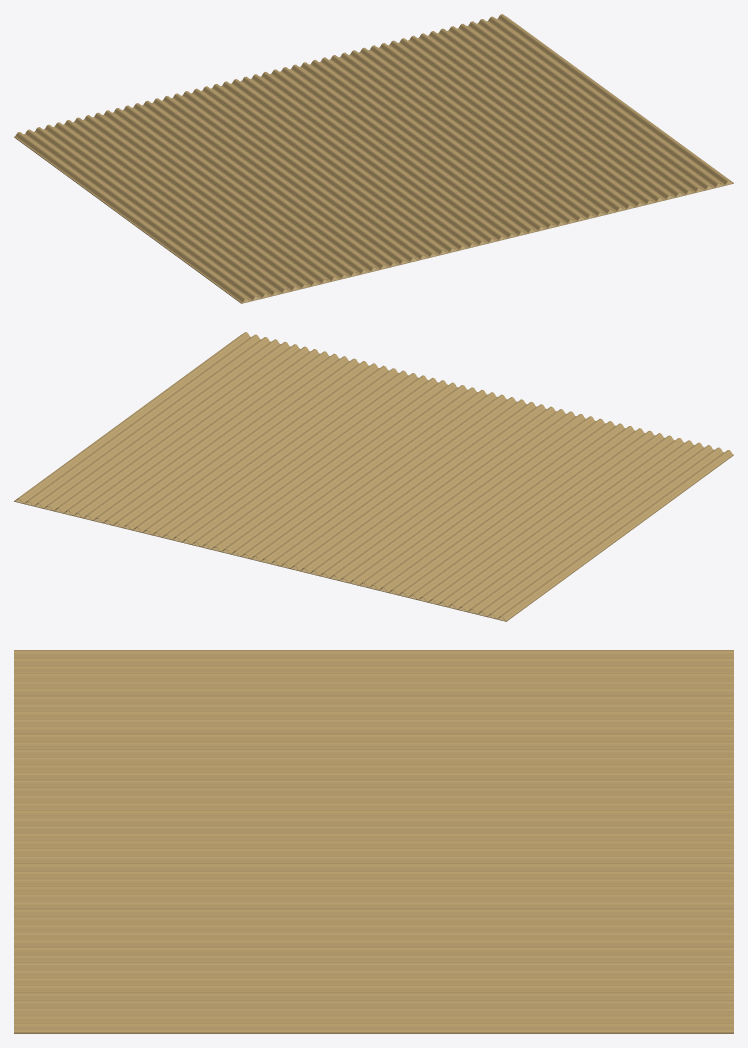
The model's file is paper.glb.
3 views of the same model, one above another, from view 1: azimuth 30°, elevation 25°; view 2: azimuth 150°, elevation 25°; view 3: azimuth 270°, elevation 25° (orthographic). The views are drawn at different scales.
Visible parts, largest first — view 1: ActualCorrugatedMedium, ActualBottomLiner; view 2: ActualCorrugatedMedium, ActualBottomLiner; view 3: ActualCorrugatedMedium, ActualBottomLiner.
Boxes of the visible parts, box(x1,y1,x2,y2) form: ActualCorrugatedMedium: box(14, 14, 733, 303); ActualBottomLiner: box(14, 137, 733, 303); ActualCorrugatedMedium: box(14, 332, 733, 621); ActualBottomLiner: box(14, 455, 733, 621); ActualCorrugatedMedium: box(14, 650, 733, 1032); ActualBottomLiner: box(14, 1033, 733, 1033).
Bounding box in the file's own units: 0.5 × 0.004 × 0.4.
